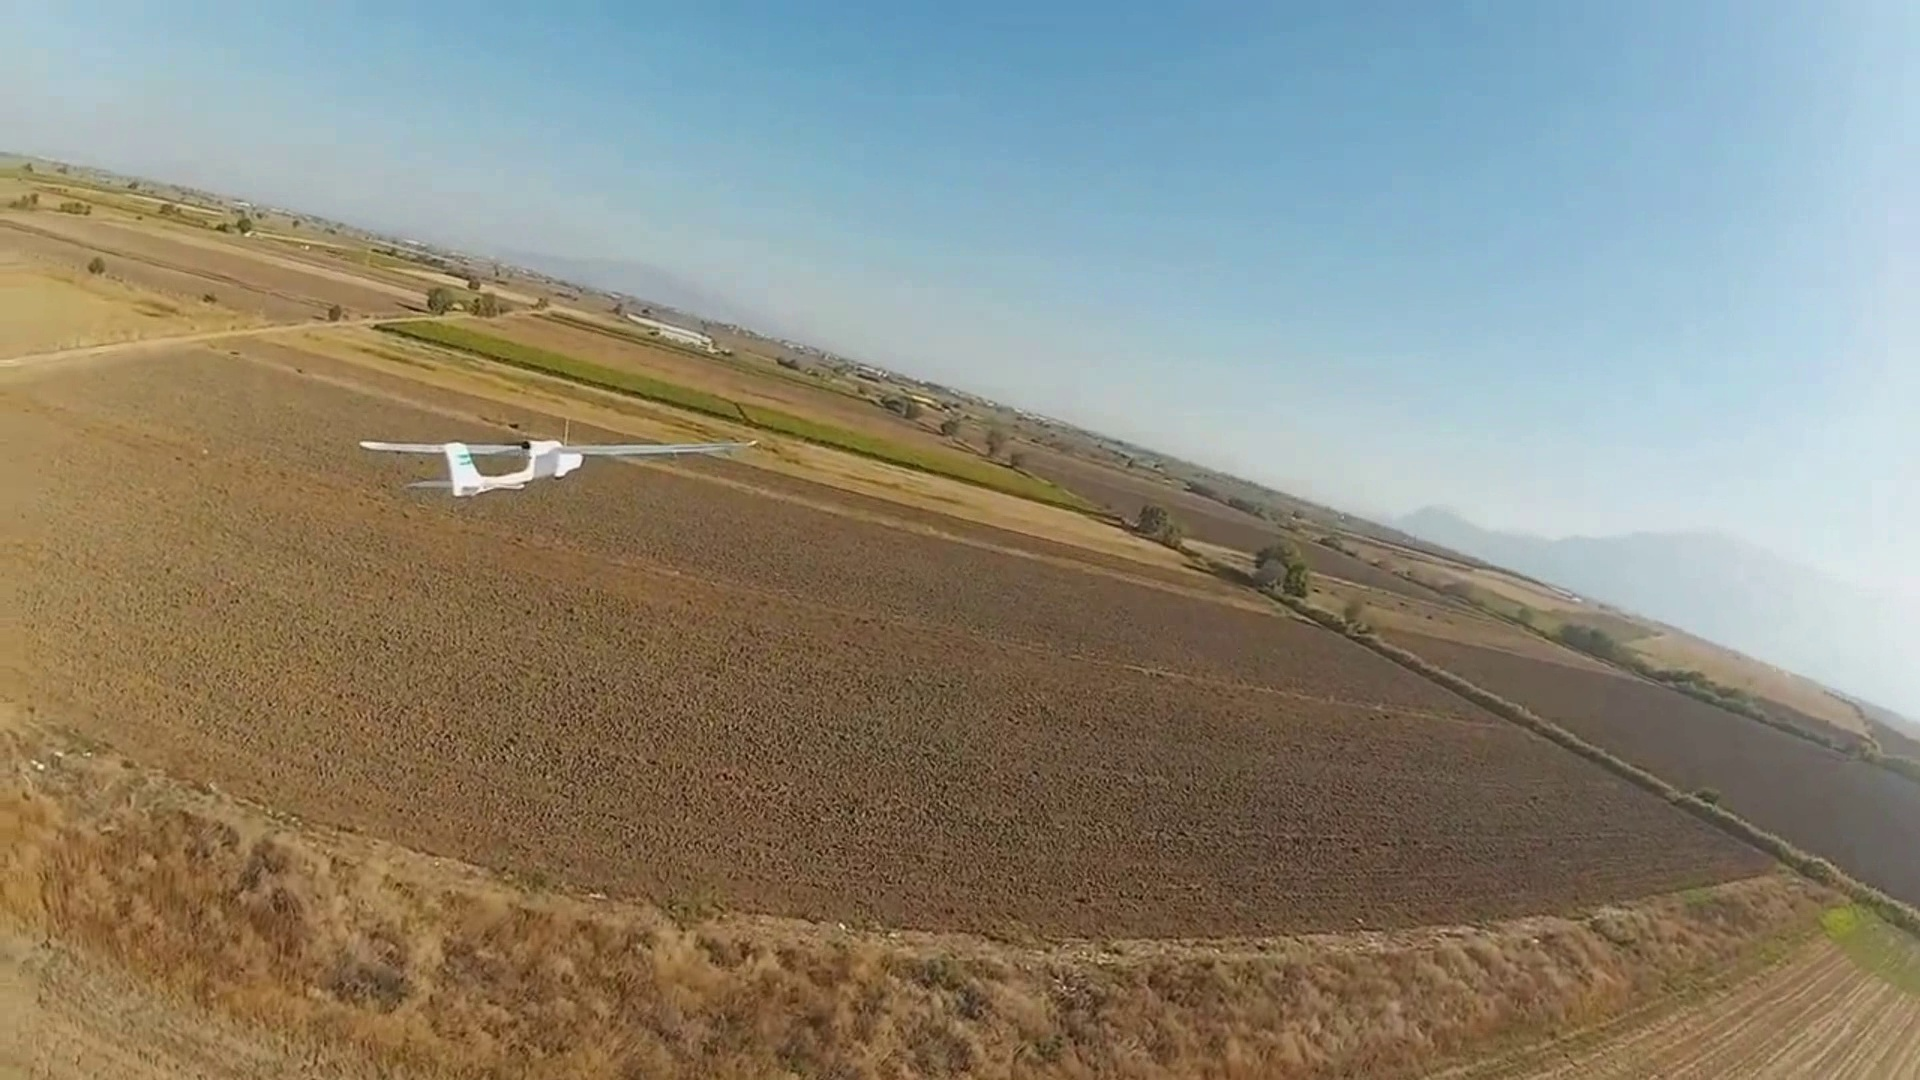airplane: (357, 439, 583, 492)
